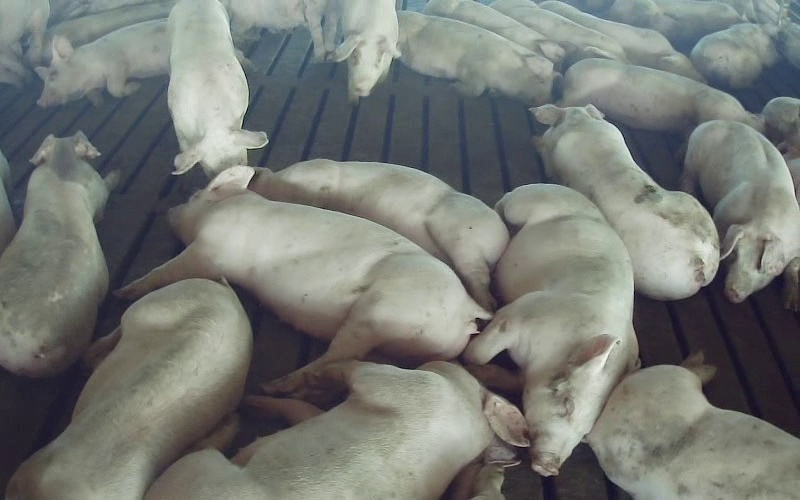pig: (6, 279, 251, 499), (146, 361, 528, 499), (249, 159, 508, 310), (531, 104, 719, 299), (586, 353, 799, 499), (0, 132, 117, 376), (682, 120, 799, 302), (168, 0, 267, 176), (559, 58, 762, 131), (398, 12, 553, 105), (35, 19, 169, 107), (304, 0, 399, 101)
